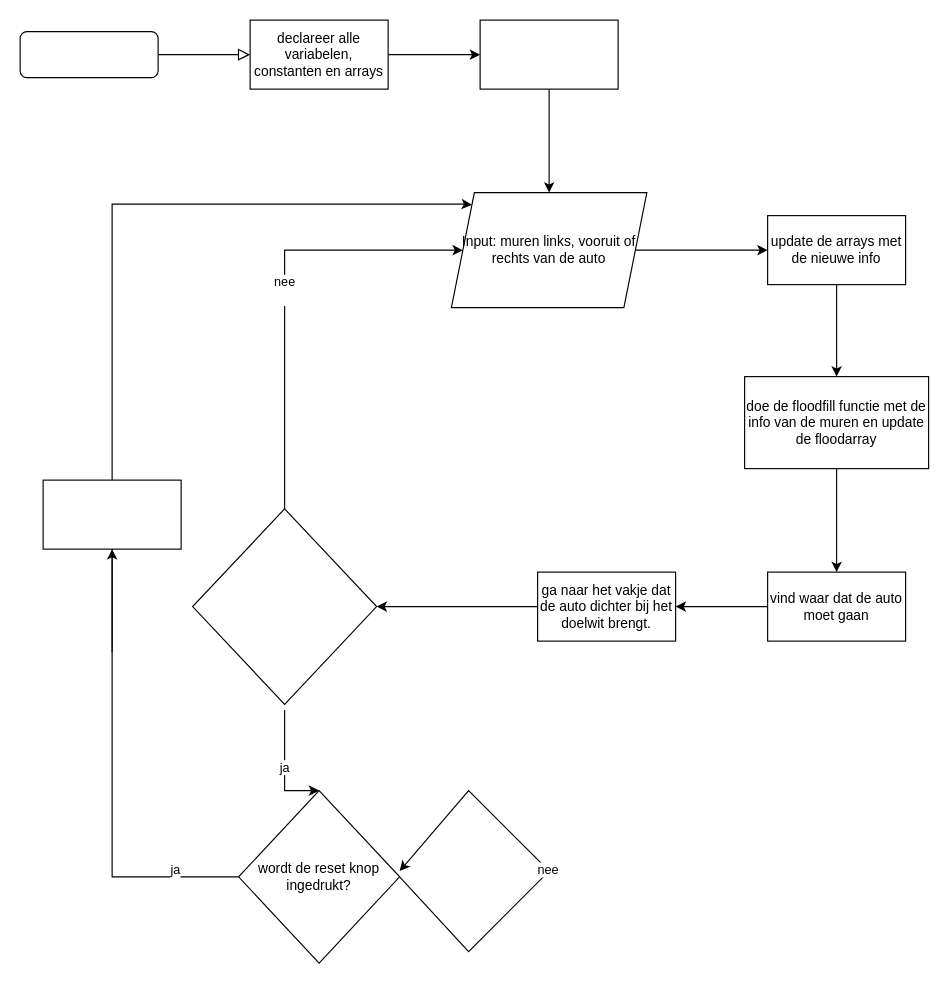
Some shapes in this 949 by 983 pixel diagram are drawn without their labels. The shapes that lost their labels are listed below. From the top down, each one's box as (x1, y1, x2, y2) in pixels, then its label:
(19, 30, 158, 78): Start
(479, 19, 618, 89): declareer alle pinmodes
(42, 479, 181, 549): reset alle arrays van de muren en de flood array.
(191, 508, 377, 704): is de auto bij de finish of wordt er op de resetknop gedrukt?
